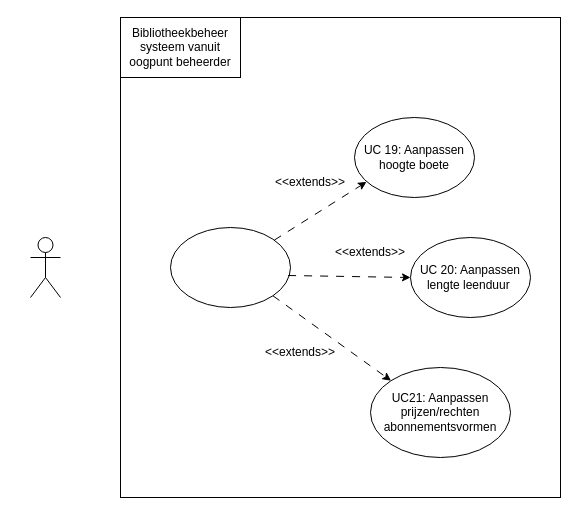
Image size: 578x515. Some labels were removed from this diagram. Here are the shapes that lost their labels. From the top down, the centre of each, then its label:
At (x=45, y=267): "Beheerder".
At (x=230, y=267): "UC 22: Inzien beheerders-instellingen".
